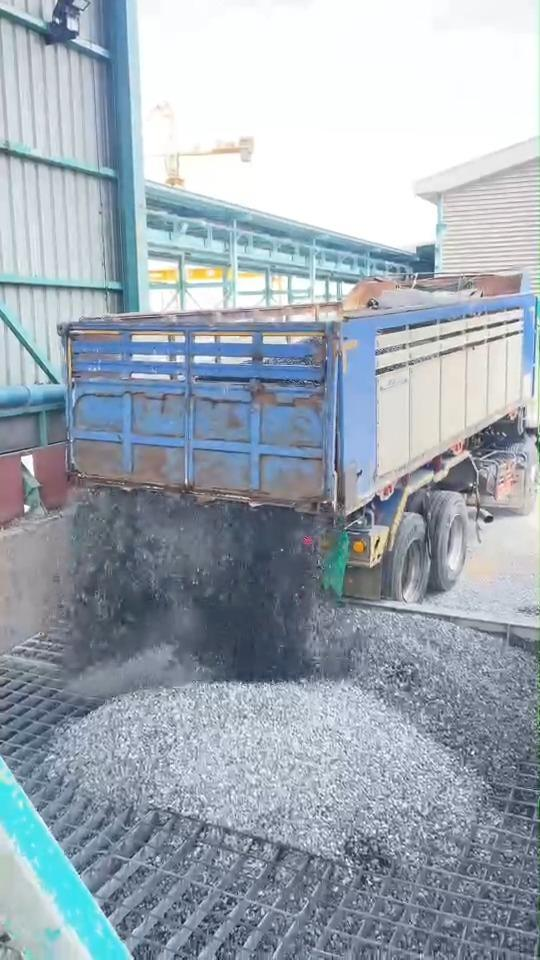gravel: (50, 682, 483, 866), (67, 490, 315, 706), (323, 607, 537, 782)
